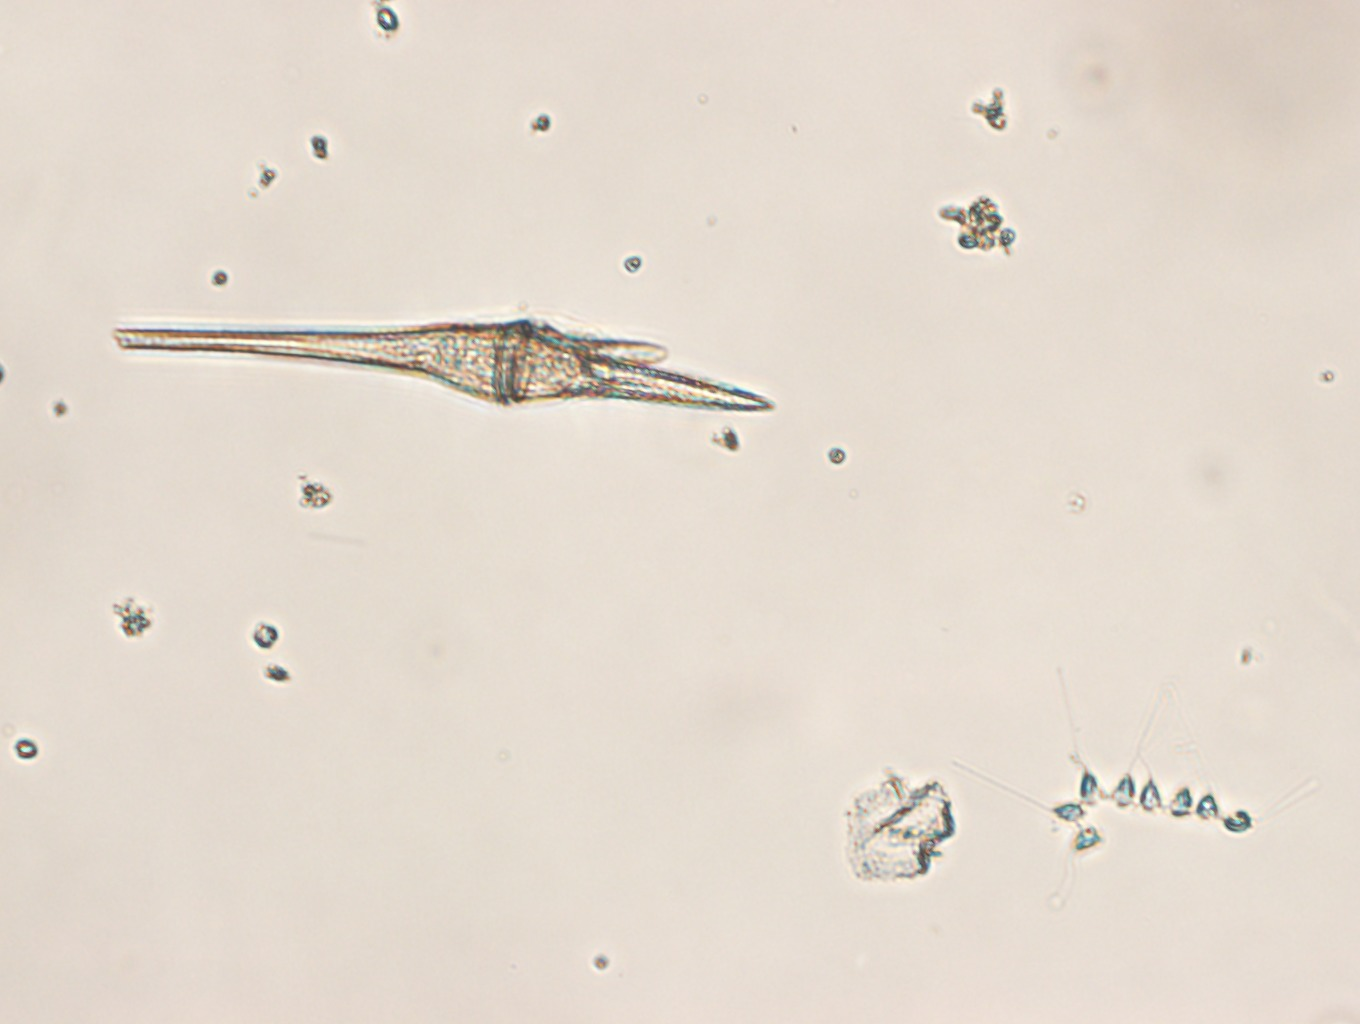ceratium furca: (110, 313, 778, 413)
